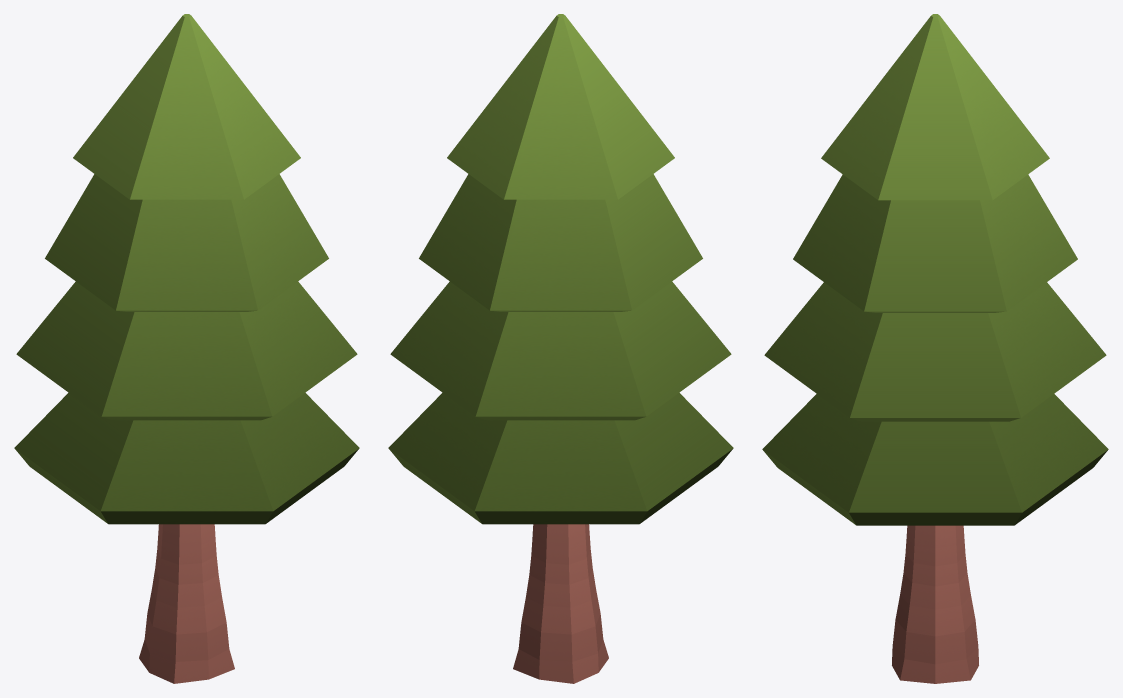
The model's file is tree5.fbx.
The picture shows the model from 3 angles, left to right: view 1: azimuth 30°, elevation 25°; view 2: azimuth 150°, elevation 25°; view 3: azimuth 270°, elevation 25°; orthographic projection.
Parts seen in each view (by area): view 1: Cube.001; view 2: Cube.001; view 3: Cube.001.
Part boxes in pixels (x1=…): Cube.001: x1=14, y1=14, x2=359, y2=683; Cube.001: x1=388, y1=14, x2=733, y2=683; Cube.001: x1=762, y1=14, x2=1108, y2=683.
Size of the model in its own units: 285 by 681 by 329.
1 material, 1 textured.
